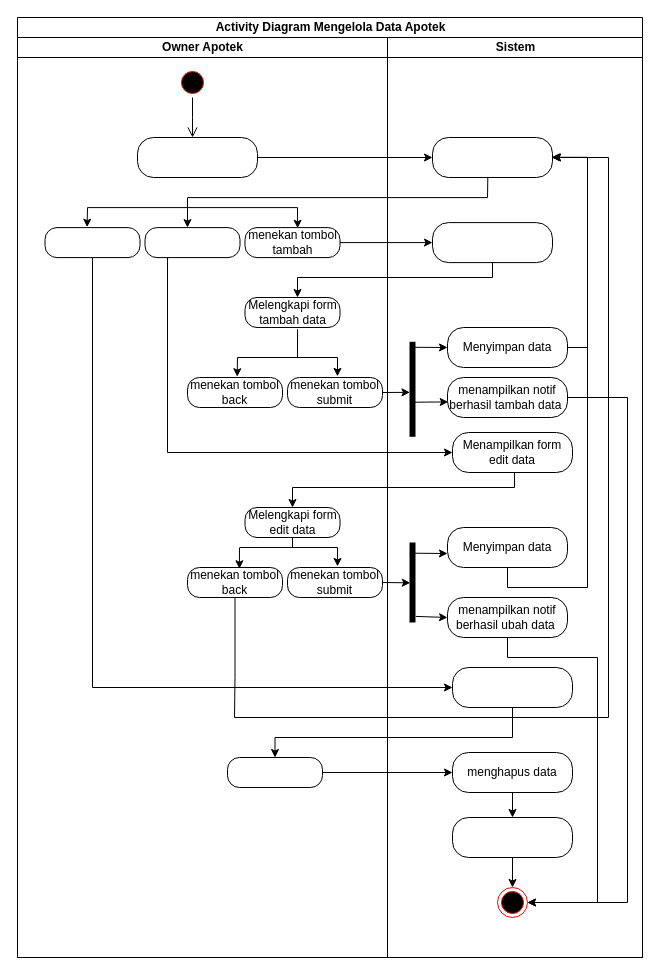
Some shapes in this 660 by 975 pixel diagram are drawn without their labels. Here are the shapes that lost their labels. From the top down, the centre of each, then its label:
At (x=197, y=157): "Memilih menu data apotek".
At (x=492, y=157): "Menampilkan data apotek".
At (x=92, y=242): "menekan checkbox".
At (x=192, y=242): "menekan tombol edit".
At (x=492, y=242): "Menampilkan form tambah data".
At (x=512, y=687): "Menampilkan tombol hapus data".
At (x=274, y=772): "menekan tombol hapus data".
At (x=512, y=837): "menampilkan notif berhasil hapus data".
